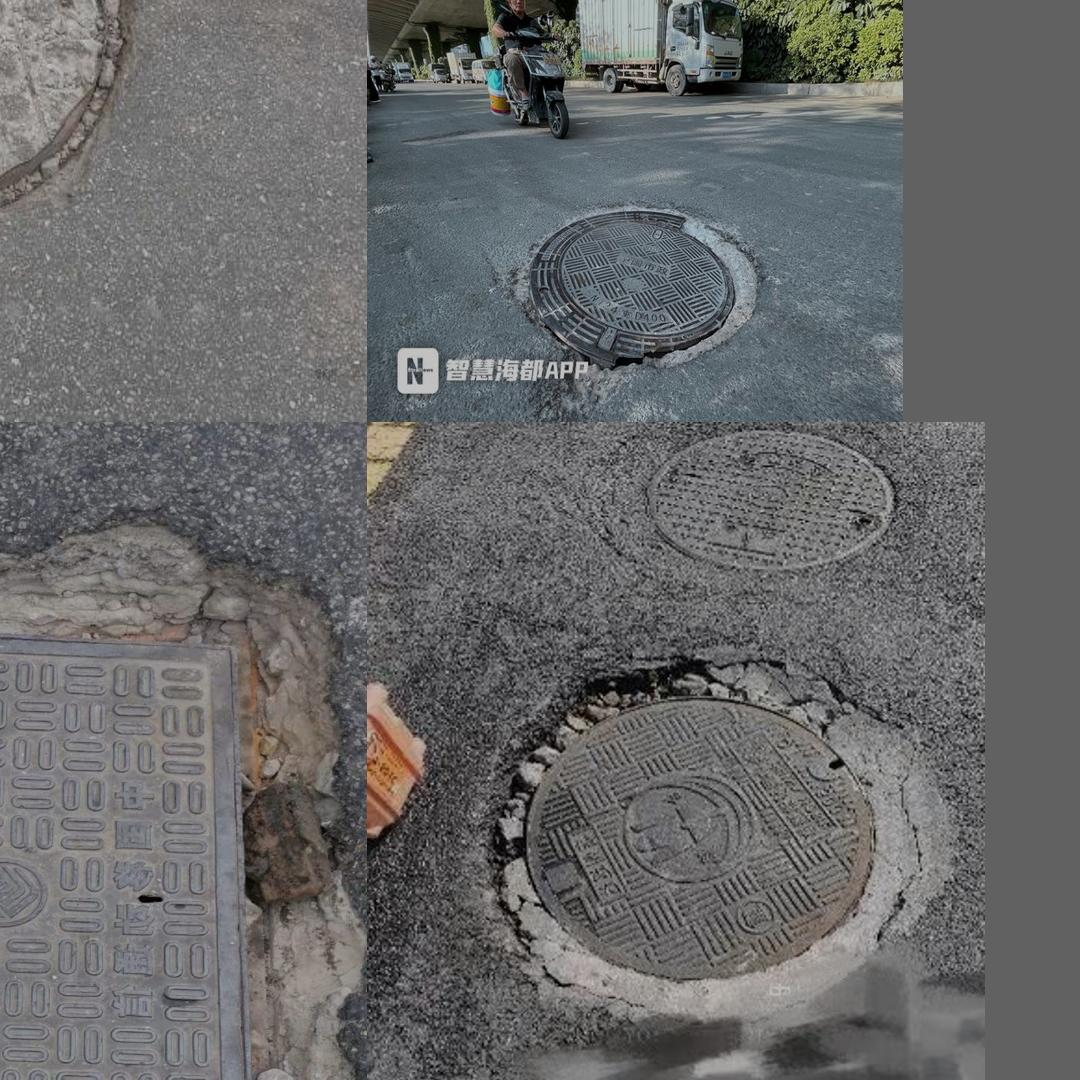circle: (489, 659, 946, 1035), (0, 578, 327, 1080), (485, 184, 796, 388), (0, 0, 155, 230)
good: (641, 428, 901, 572)
